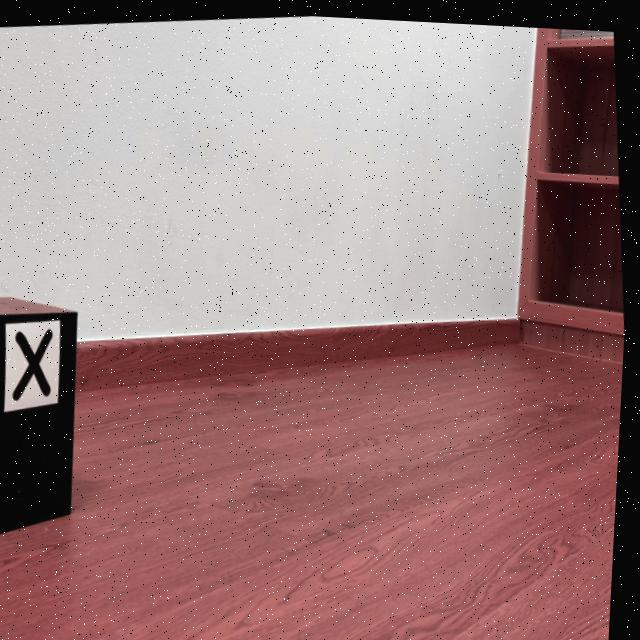X: (17, 328, 55, 400)
